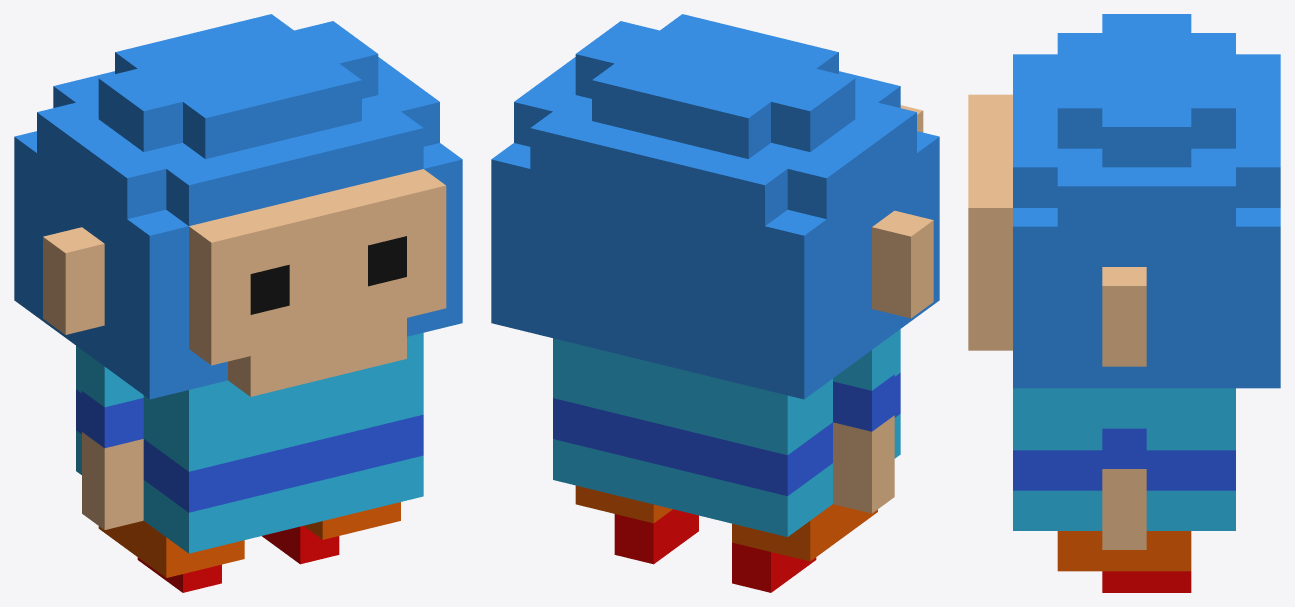
File: charakter.obj
3 views of the same model, side by side, from view 1: azimuth 30°, elevation 25°; view 2: azimuth 150°, elevation 25°; view 3: azimuth 270°, elevation 25° (orthographic).
Bounding box in the file's own units: 1 × 1.2 × 0.7.
1 material, 1 textured.
